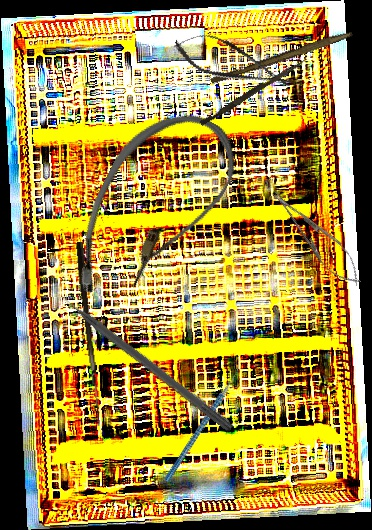Cannula: (55, 90, 251, 328)
Chopper: (133, 359, 270, 483)
Hook Surgical: (72, 241, 109, 427)
Micro Scissor: (169, 23, 297, 102)
Needle Holder: (263, 181, 370, 294)
Pusher: (47, 281, 236, 434), (199, 55, 306, 129)
Scalpel Handle: (209, 26, 354, 88)
